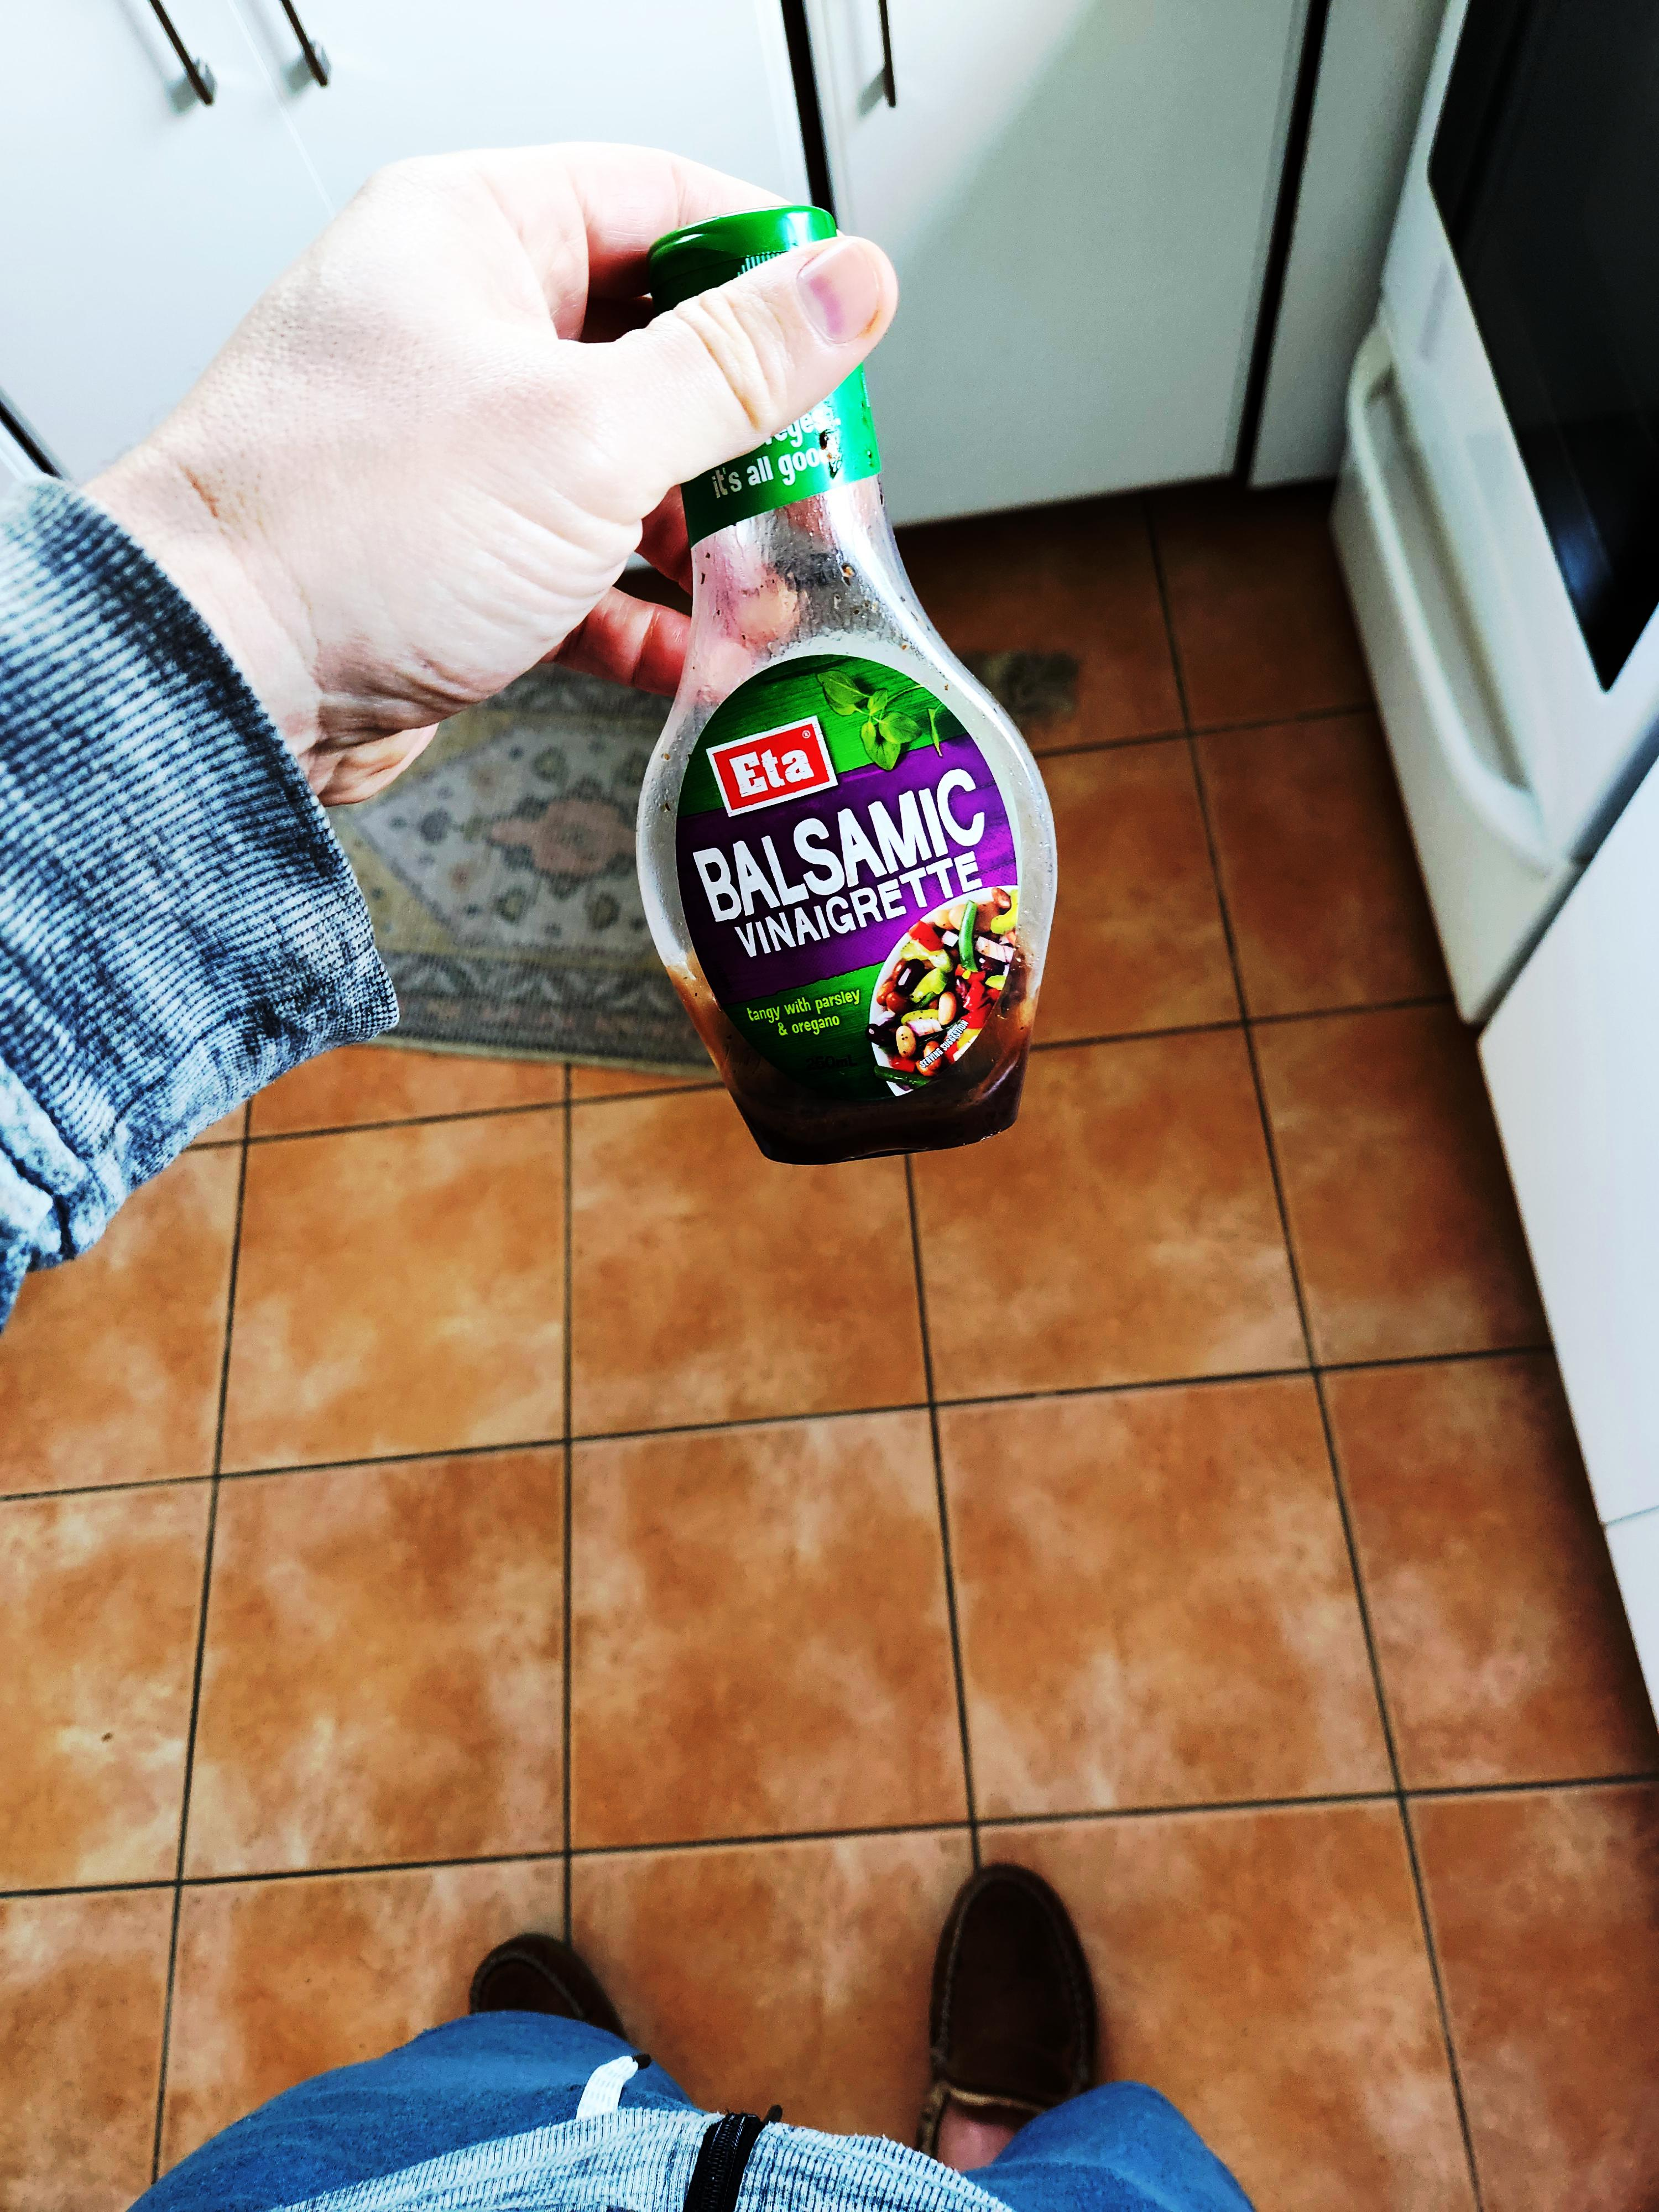balsamic vinaigrette: (477, 270, 793, 1562)
